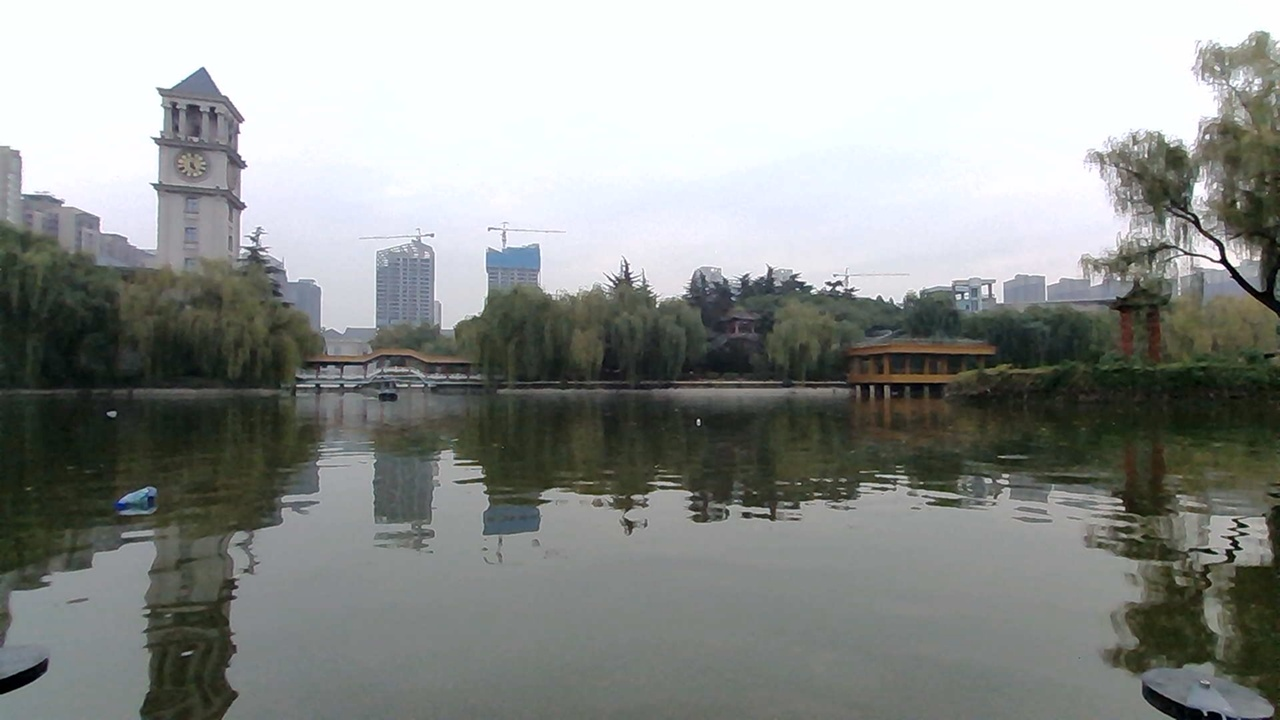bottle: (111, 481, 167, 518), (92, 401, 131, 426), (685, 407, 714, 434)
